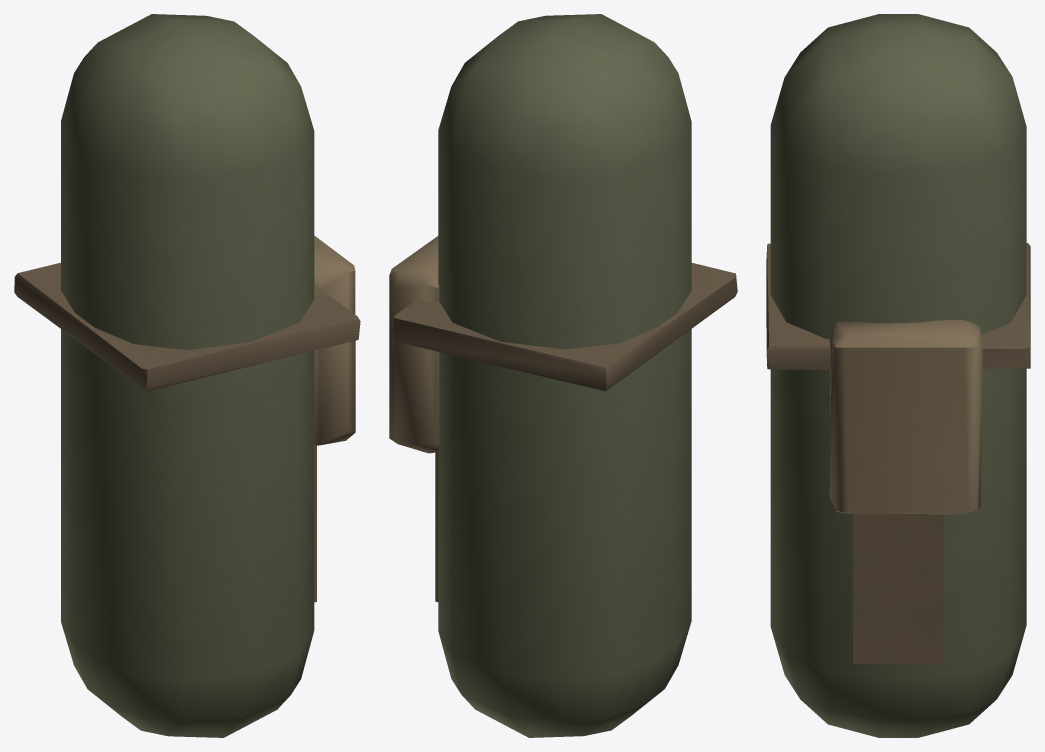
File: SM_OperatorAThigh_LOD1.fbx
3 views of the same model, side by side, from view 1: azimuth 30°, elevation 25°; view 2: azimuth 150°, elevation 25°; view 3: azimuth 270°, elevation 25° (orthographic).
Parts seen in each view (by area): view 1: SM_OperatorAThigh_LOD1; view 2: SM_OperatorAThigh_LOD1; view 3: SM_OperatorAThigh_LOD1.
Boxes of the visible parts, x1=… form: SM_OperatorAThigh_LOD1: x1=14, y1=14, x2=360, y2=737; SM_OperatorAThigh_LOD1: x1=389, y1=14, x2=737, y2=737; SM_OperatorAThigh_LOD1: x1=766, y1=14, x2=1030, y2=737.
Bounding box in the file's own units: 0.1877 × 0.5019 × 0.1724.
1 material, 1 textured.
